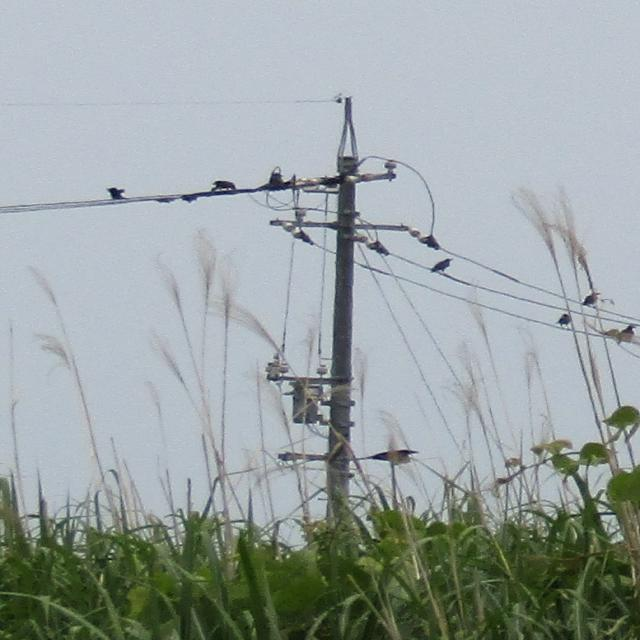pole: (250, 70, 420, 522)
